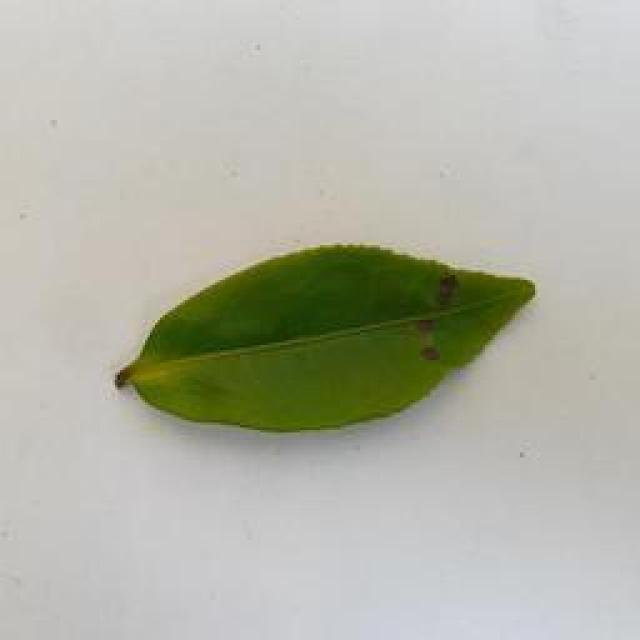Helopeltis: (104, 241, 548, 438)
